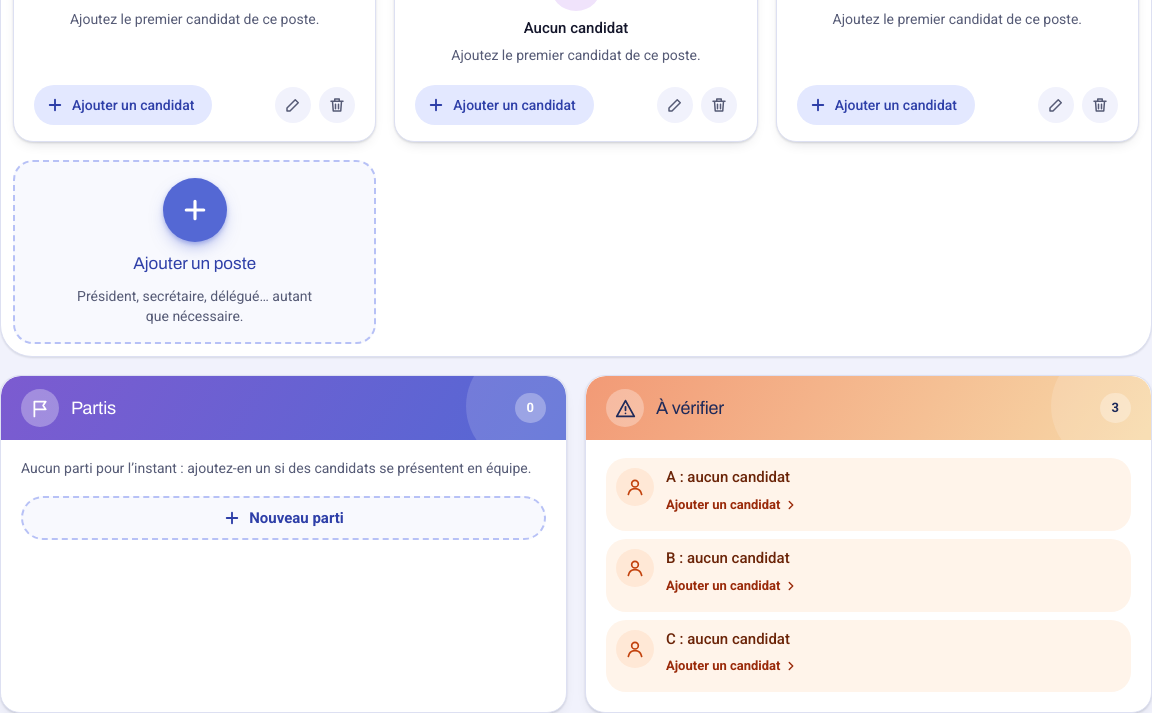
Scenario: BallotsPage parties › keeps the modal open and clears it on "save and add another"
The width and height of the screenshot is (1152, 713).
(page scrolled)
Click the button with test id "party-new": {"x": 284, "y": 518} [21,496,546,540]
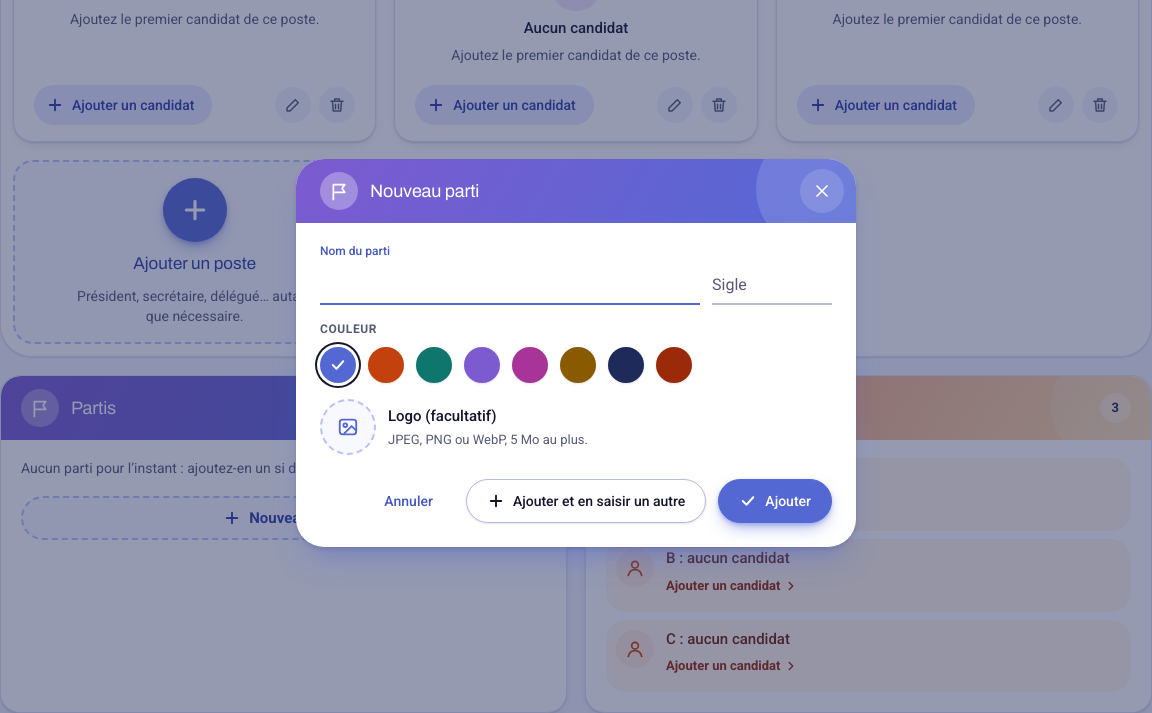
In the field with test id "party-form-name": {"x": 510, "y": 283} [320,261,700,305], type "Premier"
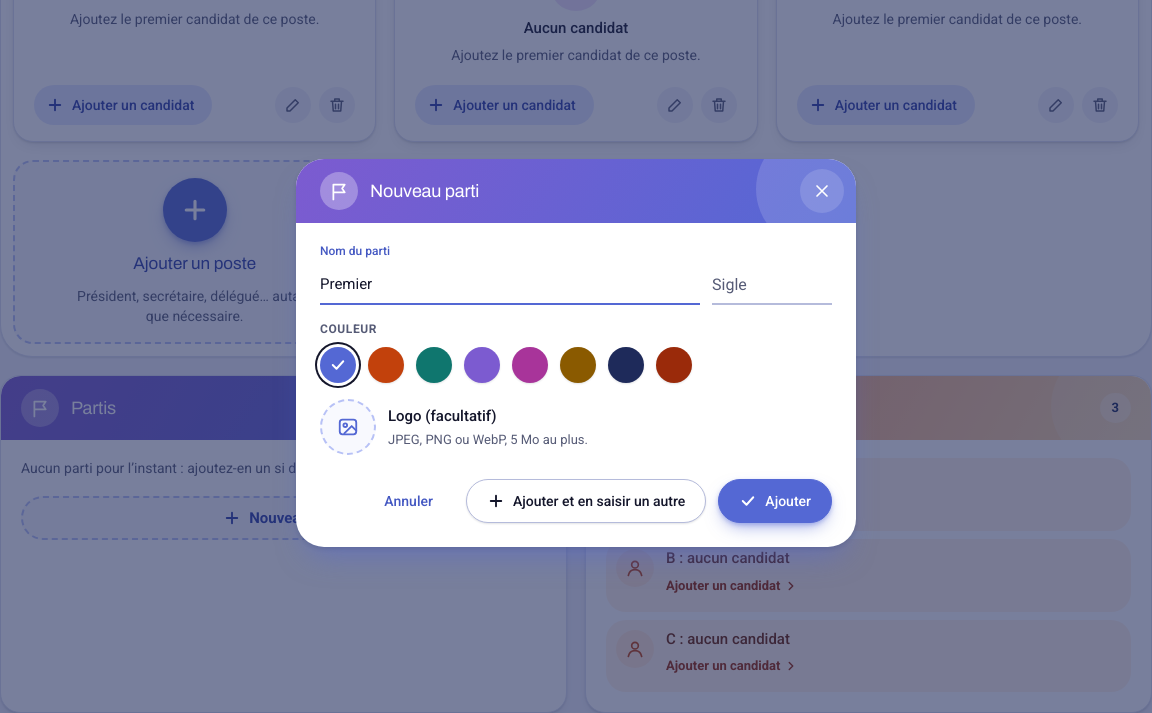
Click the button with test id "party-form-save-another": {"x": 586, "y": 501} [466,479,706,523]
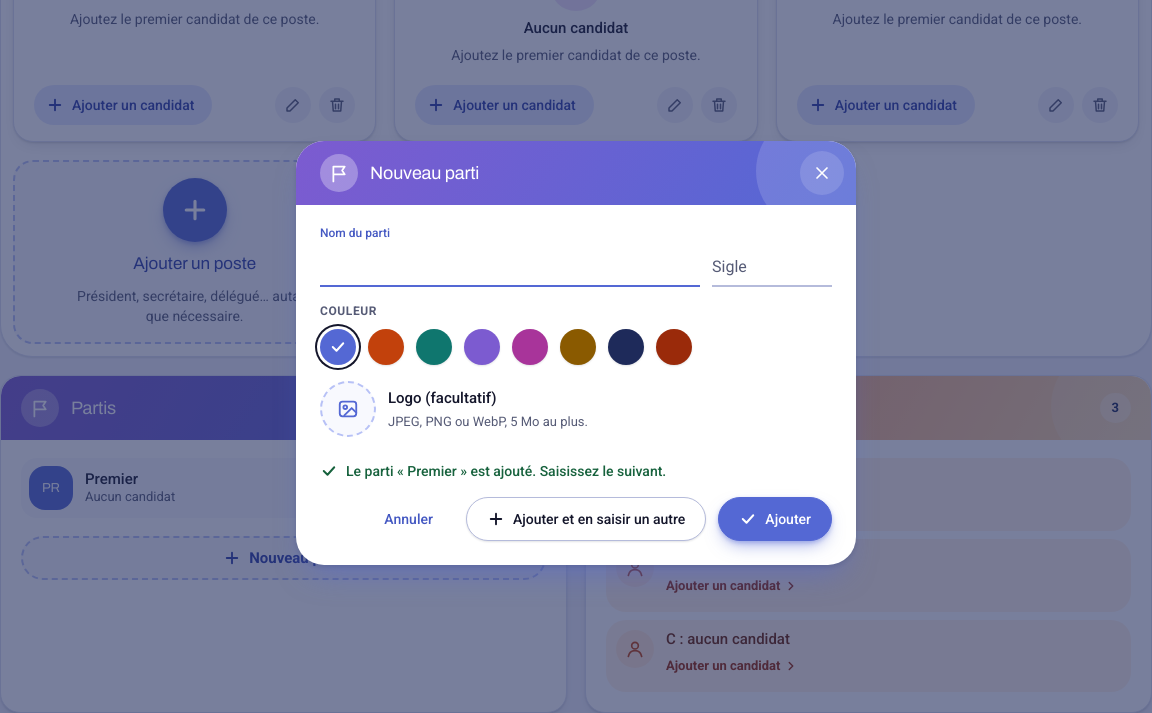
Check: the dialog with test id "party-modal" is shown, box [296,141,856,565]
Check: the field with test id "party-form-name" is empty, box [320,243,700,287]
Check: the text with test id "party-name-1" reads "Premier", box [85,470,138,488]
